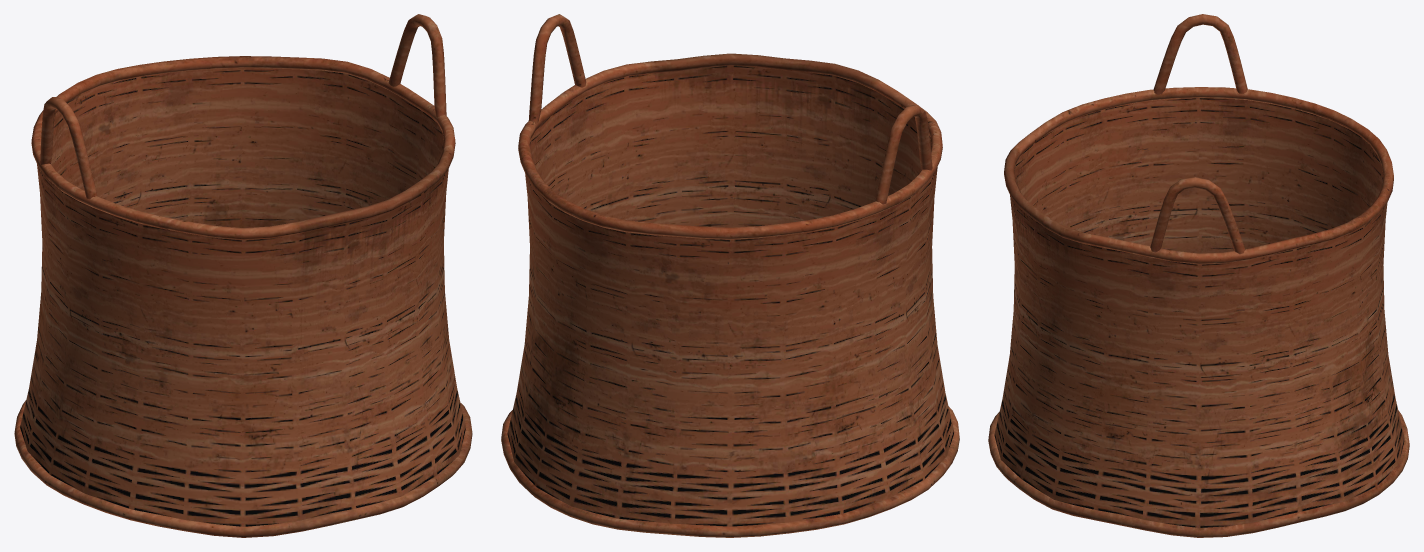
3 views of the same model, side by side, from view 1: azimuth 30°, elevation 25°; view 2: azimuth 150°, elevation 25°; view 3: azimuth 270°, elevation 25° (orthographic). The views are drawn at different scales.
Visible parts, largest first — view 1: low; view 2: low; view 3: low.
Part boxes in pixels (bbox=[...]): low: bbox=[14, 14, 472, 537]; low: bbox=[501, 14, 959, 537]; low: bbox=[988, 14, 1409, 537].
Bounding box in the file's own units: 53.23 × 49.59 × 53.16.
